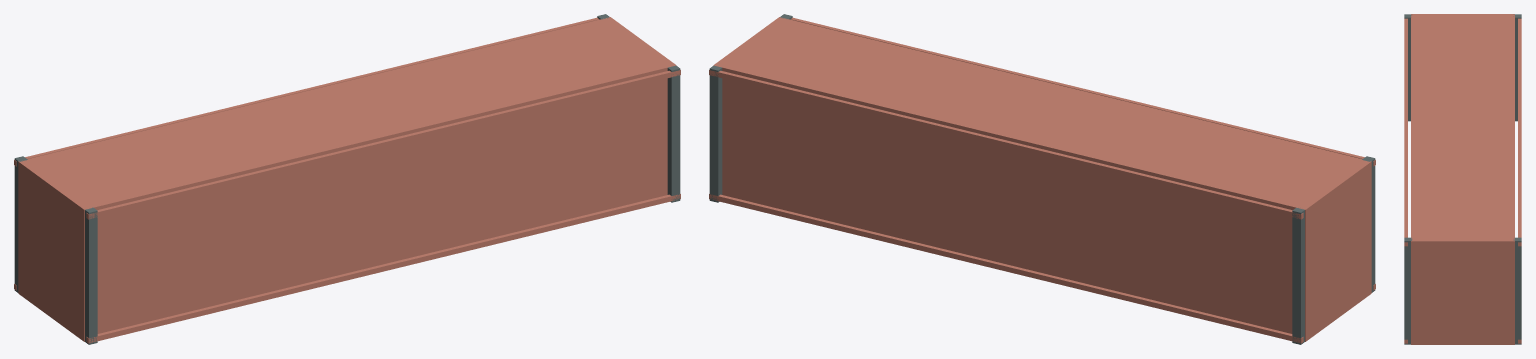
3 views of the same model, side by side, from view 1: azimuth 30°, elevation 25°; view 2: azimuth 150°, elevation 25°; view 3: azimuth 270°, elevation 25° (orthographic). The views are drawn at different scales.
Size of the model in its own units: 12.2 by 2.6 by 2.66.
